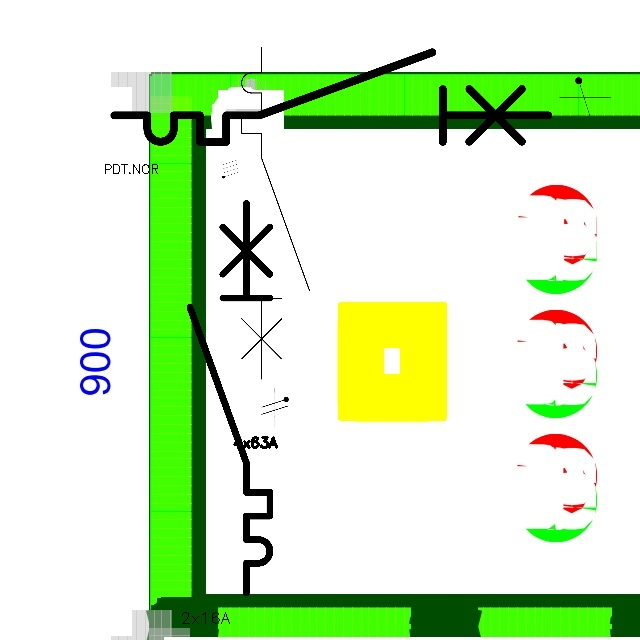interruptor_termomagnetico: (103, 41, 559, 153), (180, 193, 280, 603), (233, 39, 318, 387)
